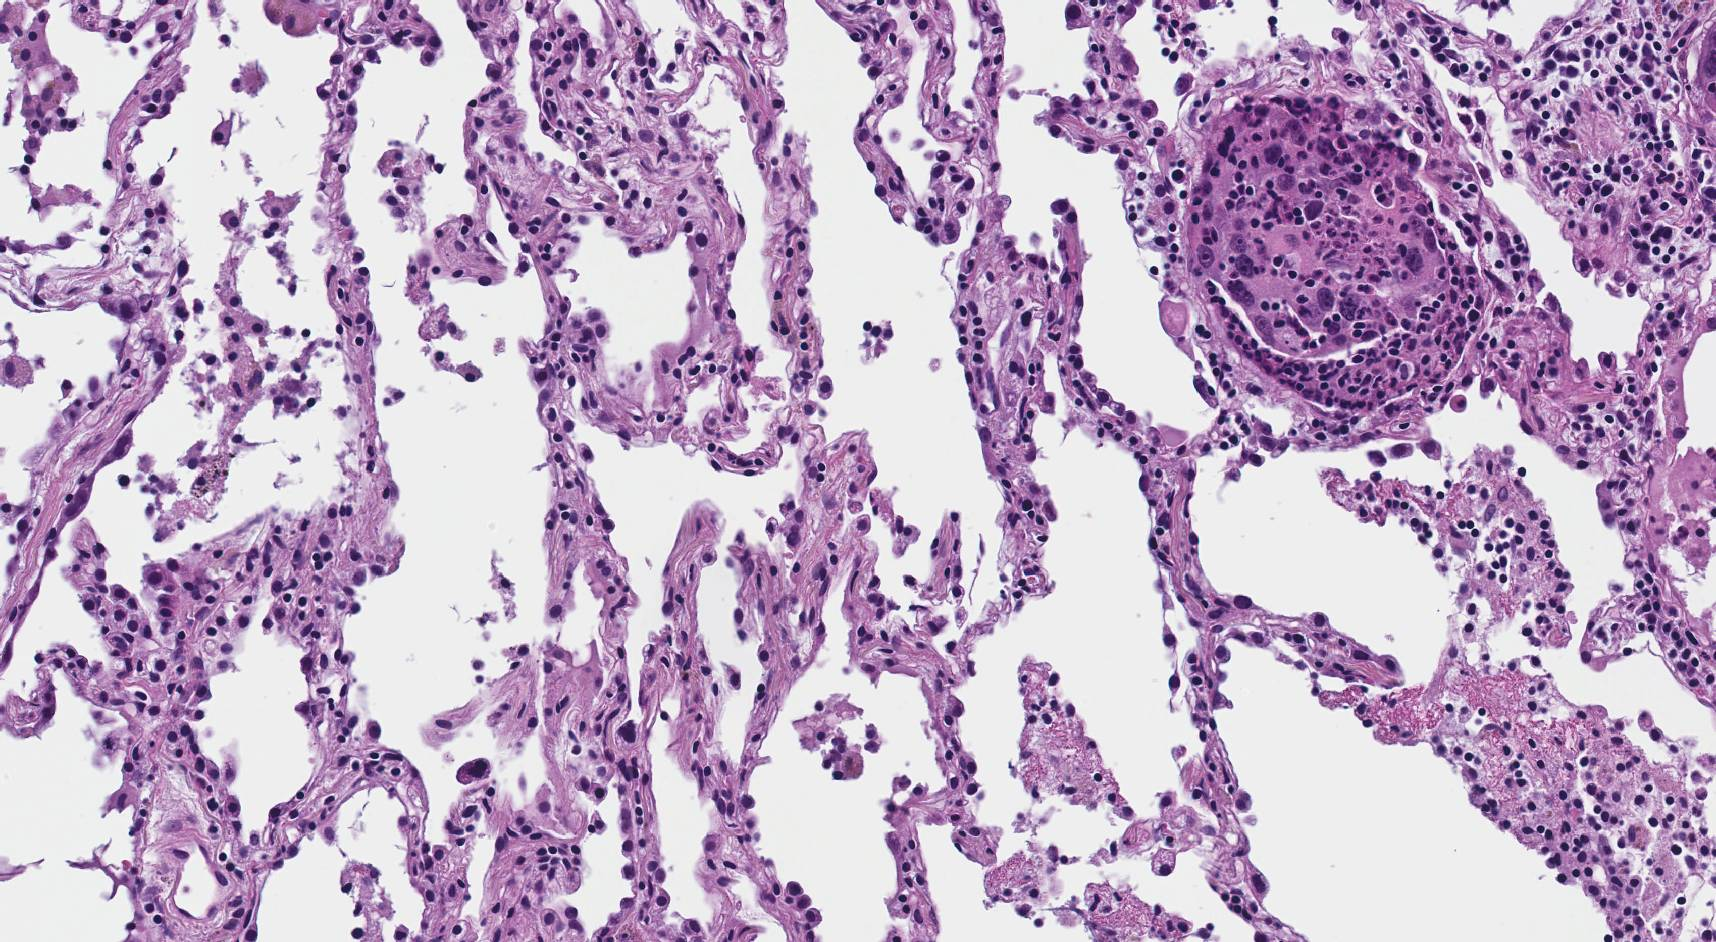stas: (1180, 94, 1485, 407)
